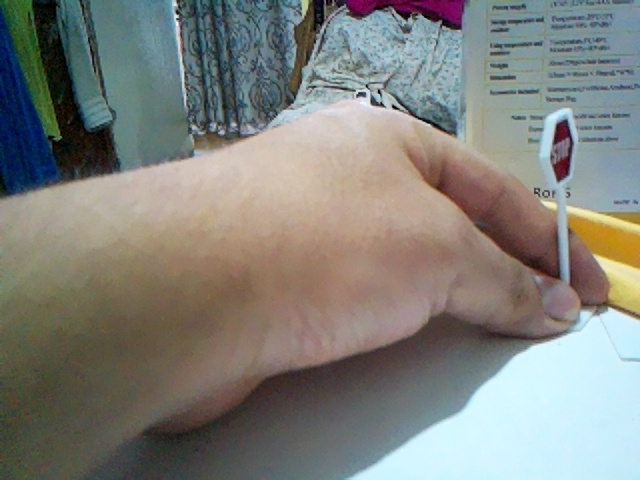stop_sign: (538, 108, 577, 201)
